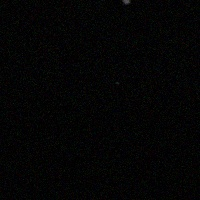chromosome: (117, 0, 132, 4), (90, 0, 119, 1)
